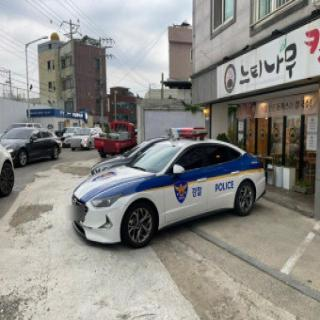Police_car: (70, 125, 266, 250)
